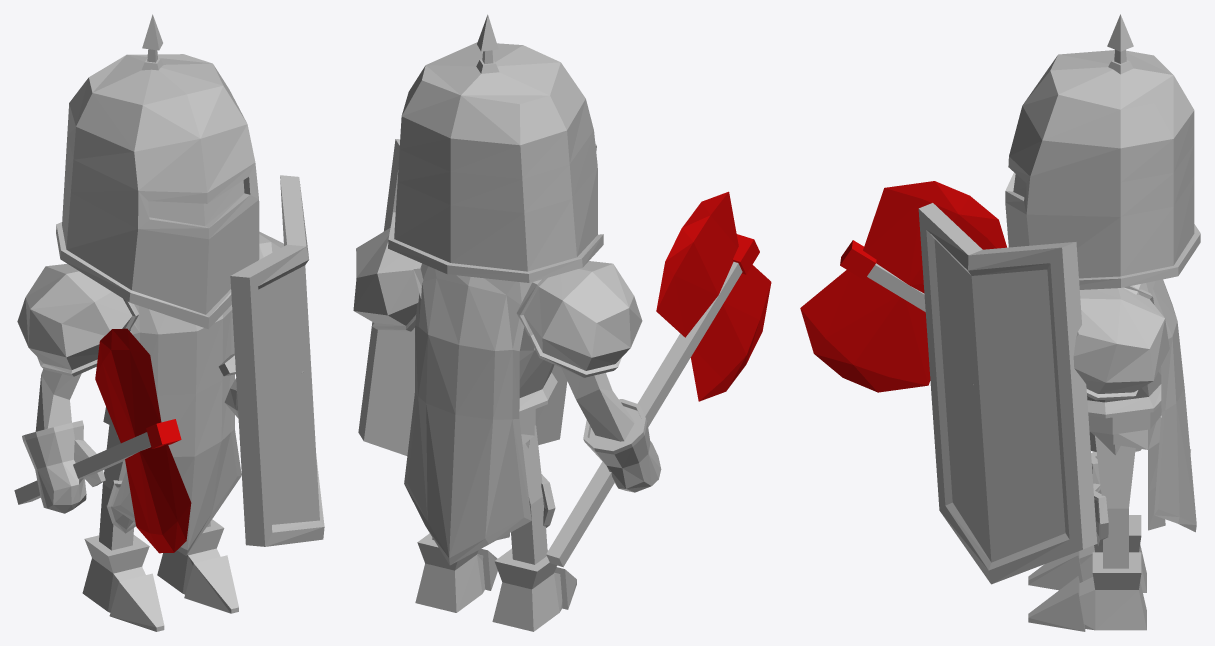
The model's file is knight_seg.glb.
3 views of the same model, side by side, from view 1: azimuth 30°, elevation 25°; view 2: azimuth 150°, elevation 25°; view 3: azimuth 270°, elevation 25° (orthographic). The views are drawn at different scales.
Parts seen in each view (by area): view 1: world; view 2: world; view 3: world.
Part boxes in pixels (x1,y1,x2,y2): world: (14,14,324,631); world: (353,14,771,631); world: (800,14,1200,631).
Bounding box in the file's own units: 0.9553 × 1.85 × 1.14.
